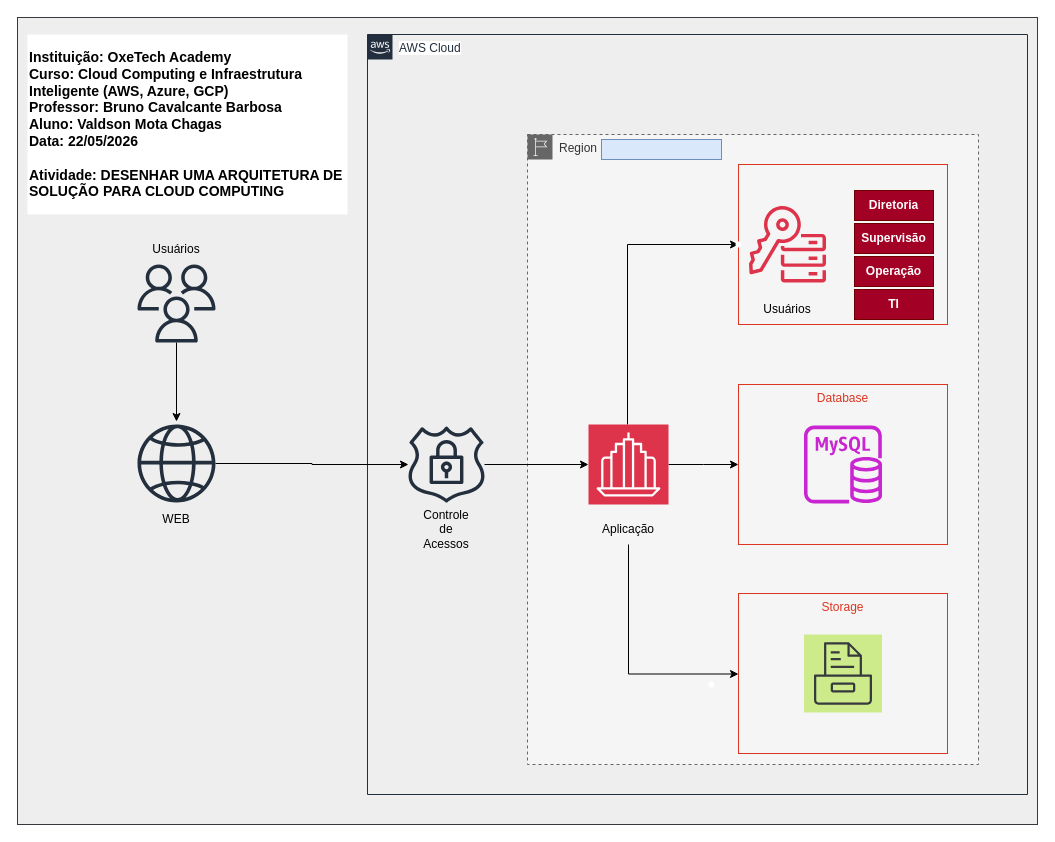
Some shapes in this 1055 by 842 pixel diagram are drawn without their labels. The shapes that lost their labels are listed below. From the top down, each one's box as (x1, y1, x2, y2) in pixels, then its label:
(600, 138, 722, 160): (São Paulo/Brasil)
(738, 164, 948, 324): Security group
